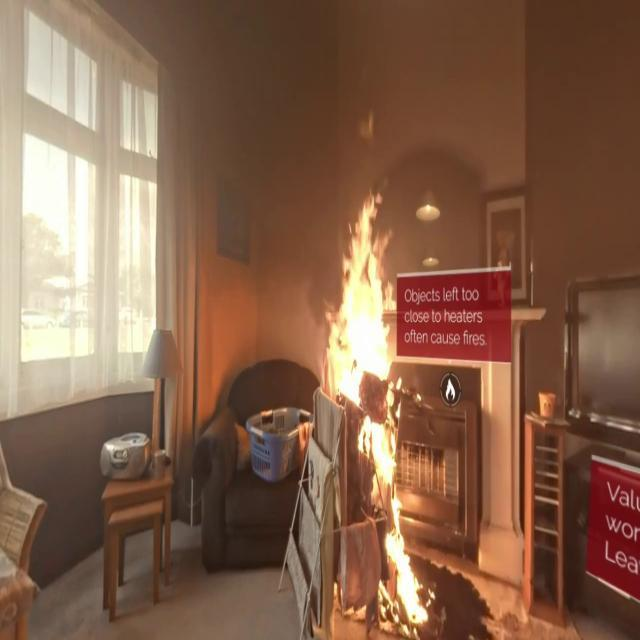Fire: (320, 187, 408, 506), (377, 492, 433, 636)
